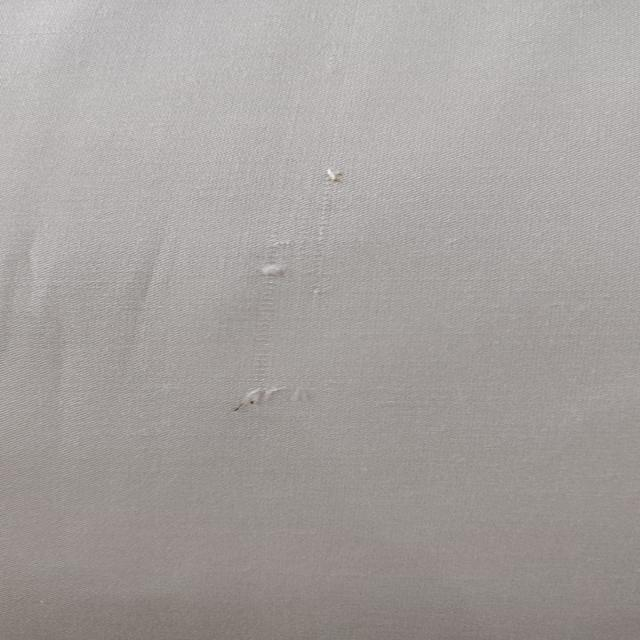stains: (174, 141, 404, 454)
